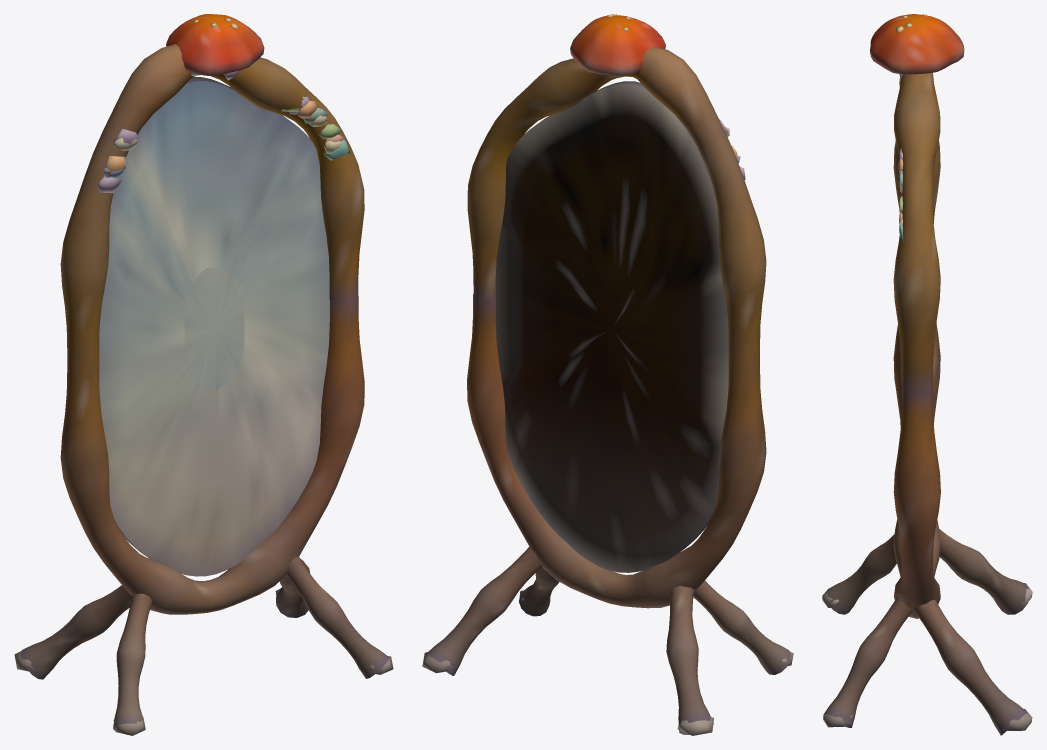
Rendered from gaudi_ayna.glb.
The picture shows the model from 3 angles, left to right: view 1: azimuth 30°, elevation 25°; view 2: azimuth 150°, elevation 25°; view 3: azimuth 270°, elevation 25°; orthographic projection.
Visible parts, largest first — view 1: gaudi_ayna_LOD0; view 2: gaudi_ayna_LOD0; view 3: gaudi_ayna_LOD0.
Boxes of the visible parts, left/top/right/bottom form: gaudi_ayna_LOD0: left=14, top=14, right=393, bottom=735; gaudi_ayna_LOD0: left=422, top=14, right=793, bottom=735; gaudi_ayna_LOD0: left=822, top=14, right=1032, bottom=735.
Size of what is drawn, in the model's own units: 0.9608 by 2.04 by 0.5955.
